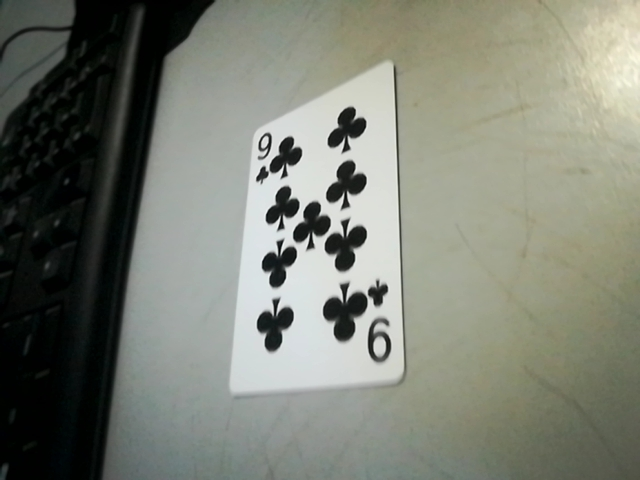mh 9: (358, 288, 403, 374)
